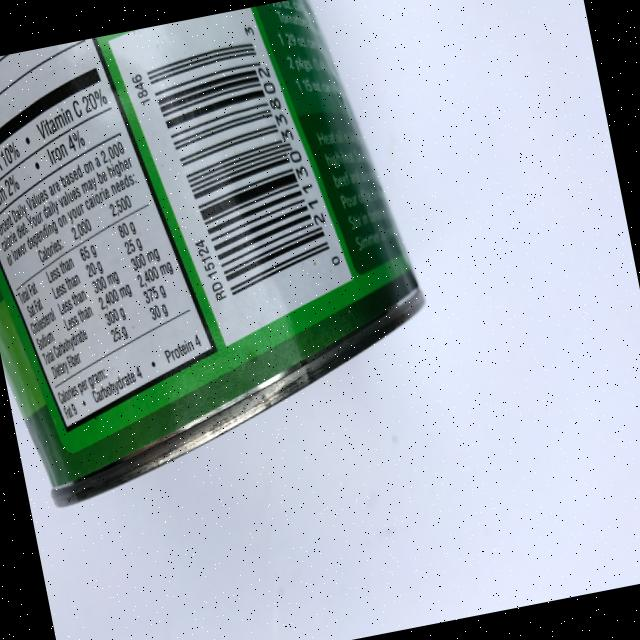metal: (0, 0, 451, 513)
